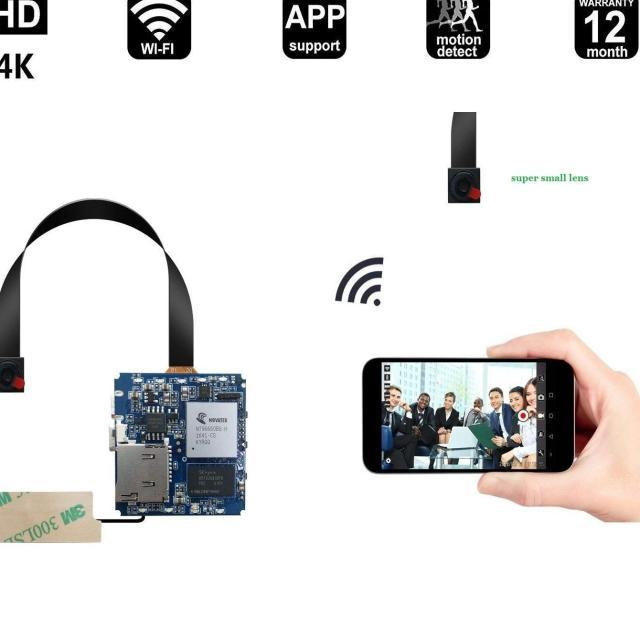hidden camera: (455, 176, 474, 196), (0, 365, 15, 384)
